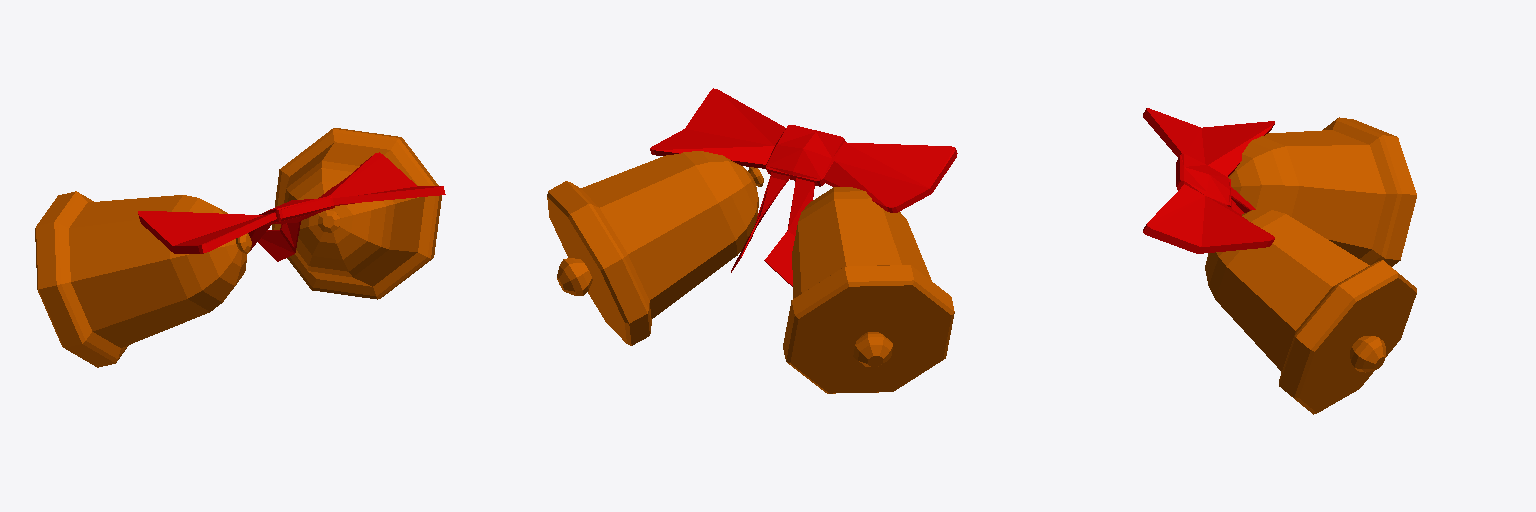
File: bells_2023.obj
The picture shows the model from 3 angles: view 1: azimuth 30°, elevation 25°; view 2: azimuth 150°, elevation 25°; view 3: azimuth 270°, elevation 25°; orthographic projection.
Visible parts, largest first — view 1: 0, 1; view 2: 0, 1; view 3: 0, 1.
Boxes of the visible parts, x1=… form: 0: x1=35, y1=128, x2=441, y2=367; 1: x1=138, y1=152, x2=445, y2=261; 0: x1=547, y1=151, x2=954, y2=393; 1: x1=650, y1=88, x2=957, y2=286; 0: x1=1205, y1=117, x2=1416, y2=414; 1: x1=1143, y1=108, x2=1274, y2=253.
Size of the model in its own units: 0.3547 by 0.1499 by 0.2088.